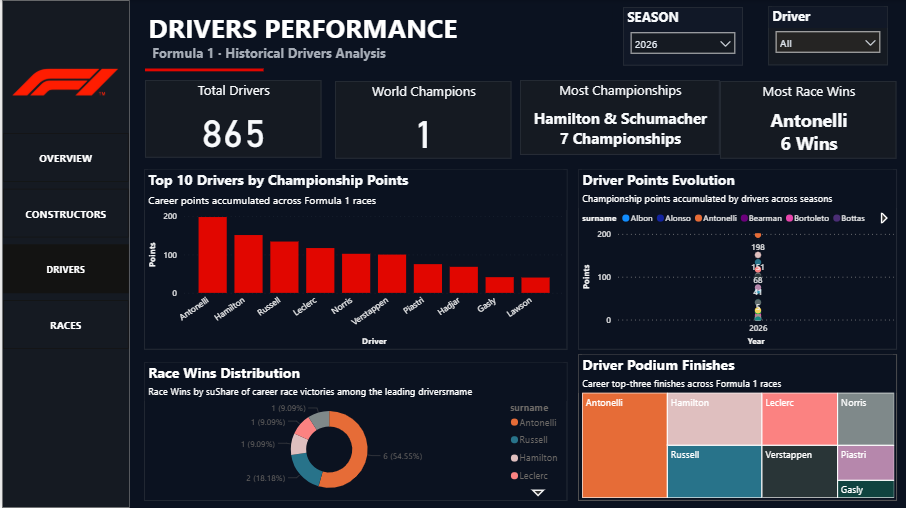

Layout of this report page (visuals, bound fields, positions):
{"tool":"powerbi","page":{"name":"DRIVERS","canvas":[1280,720],"ordinal":2},"visuals":[{"type":"slicer","title":"Driver","fields":{"Values":["drivers.surname"]},"box":[1085.7,8.6,170,84.3],"z":0},{"type":"treemap","title":"Driver Podium Finishes","fields":{"Values":["drivers.Podium Finishes"],"Group":["drivers.surname"]},"box":[815.9,501.6,452.4,207.9],"z":1000},{"type":"clusteredColumnChart","title":"Top 10 Drivers by Championship Points","fields":{"Category":["drivers.surname"],"Y":["drivers.Total Points"]},"box":[201.6,239.7,600,255.6],"z":2000},{"type":"lineChart","title":"Driver Points Evolution","fields":{"Category":["races.year"],"Y":["drivers.Total Points"],"Series":["drivers.surname"]},"box":[815.9,239.7,452.4,255.6],"z":3000},{"type":"donutChart","title":"Race Wins Distribution","fields":{"Category":["drivers.surname"],"Y":["drivers.Race Wins"]},"box":[201.6,512.7,600,196.8],"z":4000},{"type":"slicer","title":"SEASON","fields":{"Values":["races.year"]},"box":[880,10,170,82.9],"z":5000},{"type":"textbox","box":[202,8,662,84],"z":6000},{"type":"shape","box":[202,24,168,150],"z":7000},{"type":"card","title":"Total Drivers","fields":{"Values":["Count(drivers.driverId)"]},"box":[202,114,250,110],"z":8000},{"type":"card","title":"World Champions","fields":{"Values":["Count(races.year)"]},"box":[471.7,115,250,110],"z":9000},{"type":"card","title":"Most Championships","fields":{"Values":["drivers.Most Championships"]},"box":[734.8,113,282.6,105.8],"z":10000},{"type":"card","title":"Most Race Wins","fields":{"Values":["drivers.Most Race Wins"]},"box":[1017.1,114.3,250,110],"z":11000},{"type":"shape","box":[0,0,181.4,720],"z":12000},{"type":"image","box":[6,34,168,158],"z":13000},{"type":"pageNavigator","box":[2,188,178,308],"z":14000}]}

Visuals, with their boxes in screenshot pixels (x1, y1, x2, y2), scaled from the page's 1280x720 canvas onto the 906x508 screenshot:
"Driver" slicer: l=768, t=6, r=889, b=66
"Driver Podium Finishes" treemap: l=578, t=354, r=898, b=501
"Top 10 Drivers by Championship Points" clusteredColumnChart: l=143, t=169, r=567, b=349
"Driver Points Evolution" lineChart: l=578, t=169, r=898, b=349
"Race Wins Distribution" donutChart: l=143, t=362, r=567, b=501
"SEASON" slicer: l=623, t=7, r=743, b=66
textbox: l=143, t=6, r=612, b=65
shape: l=143, t=17, r=262, b=123
"Total Drivers" card: l=143, t=80, r=320, b=158
"World Champions" card: l=334, t=81, r=511, b=159
"Most Championships" card: l=520, t=80, r=720, b=154
"Most Race Wins" card: l=720, t=81, r=897, b=158
shape: l=0, t=0, r=128, b=507
image: l=4, t=24, r=123, b=135
pageNavigator: l=1, t=133, r=127, b=350
